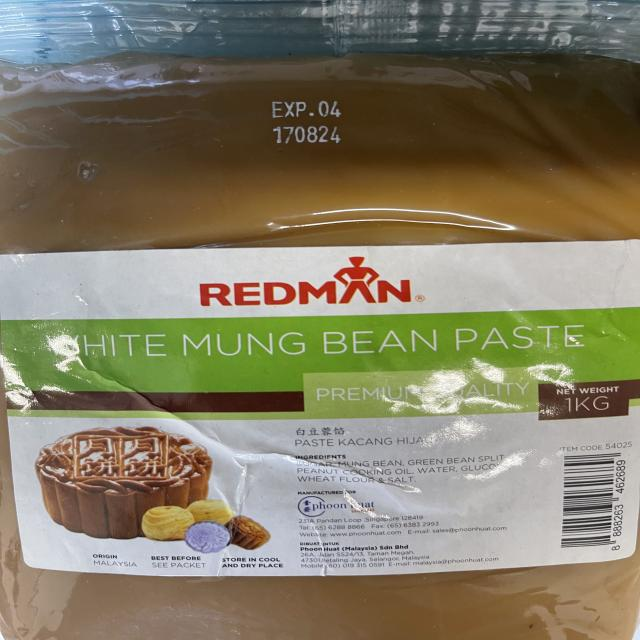object_name: (3, 16, 622, 640)
